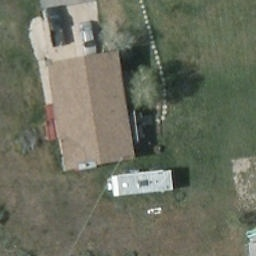camping car: (109, 171, 175, 193)
car: (79, 22, 99, 56)
pickup: (46, 6, 71, 47)
